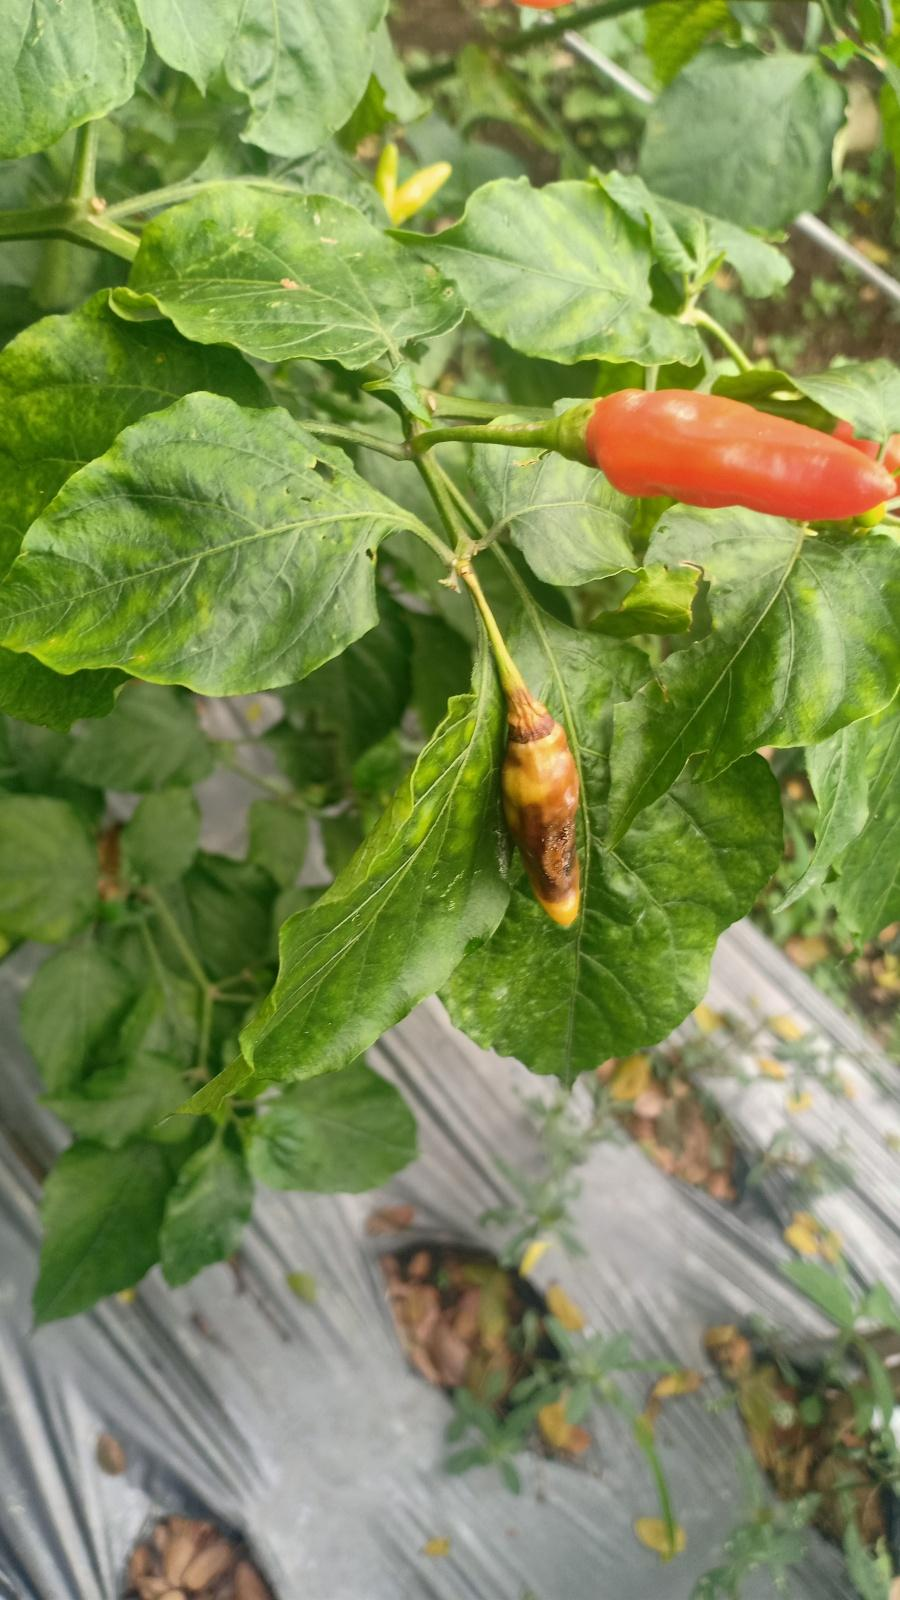antraknosa: (507, 711, 595, 933)
cabai_normal: (589, 390, 895, 524)
